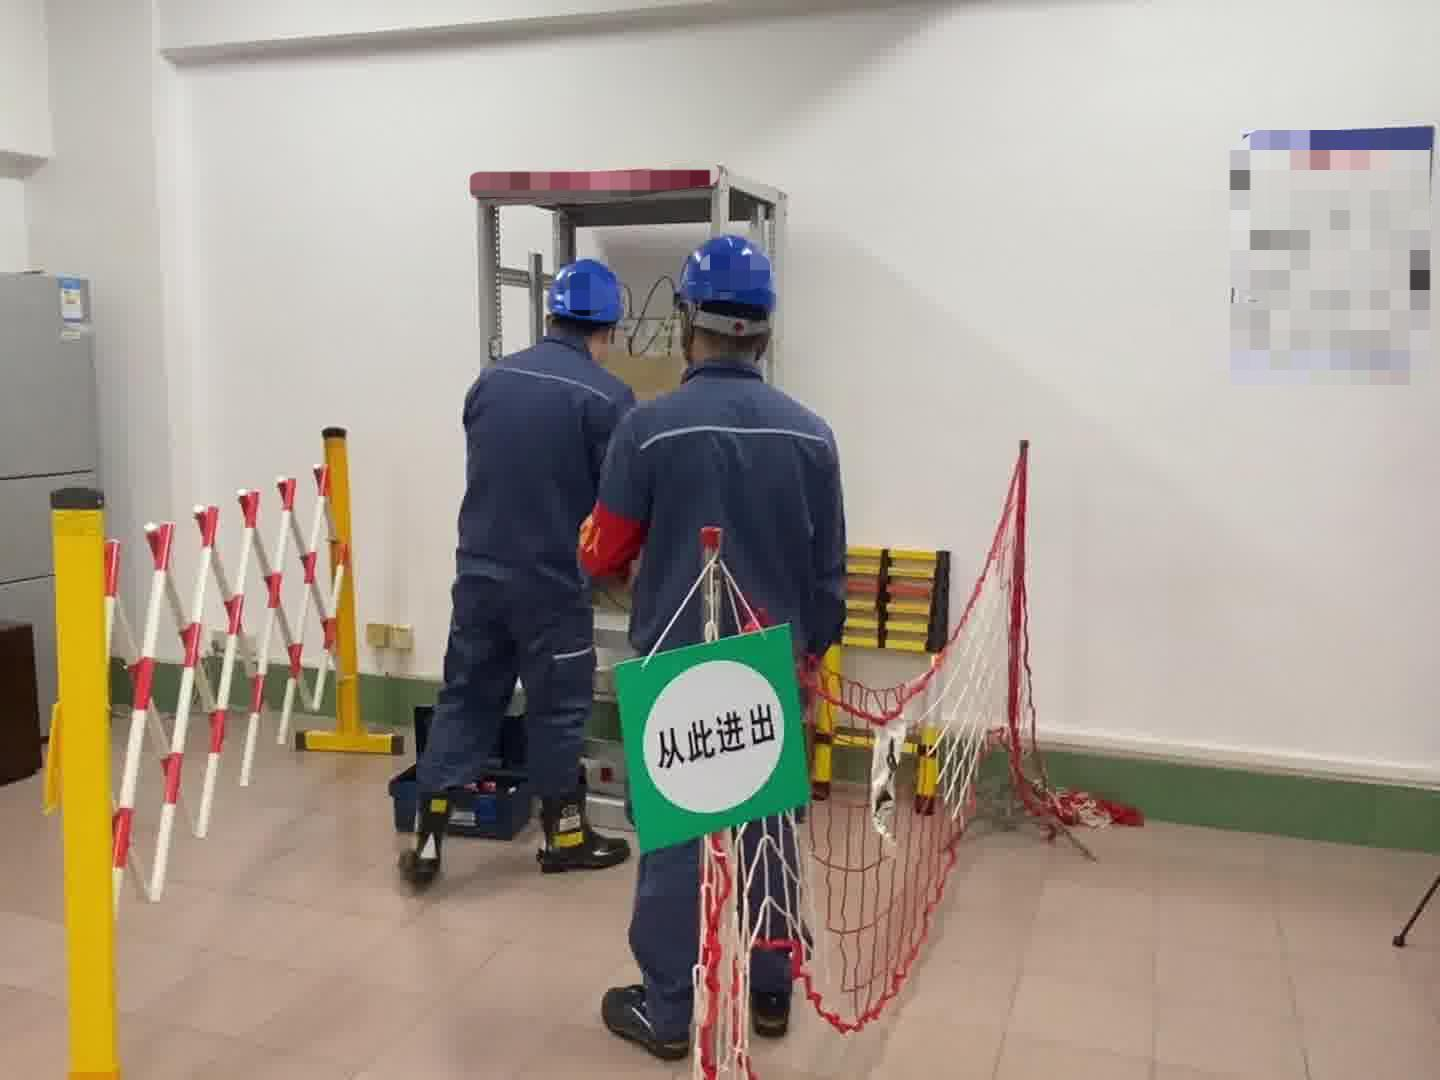halt: (676, 238, 783, 365), (548, 258, 629, 348)
